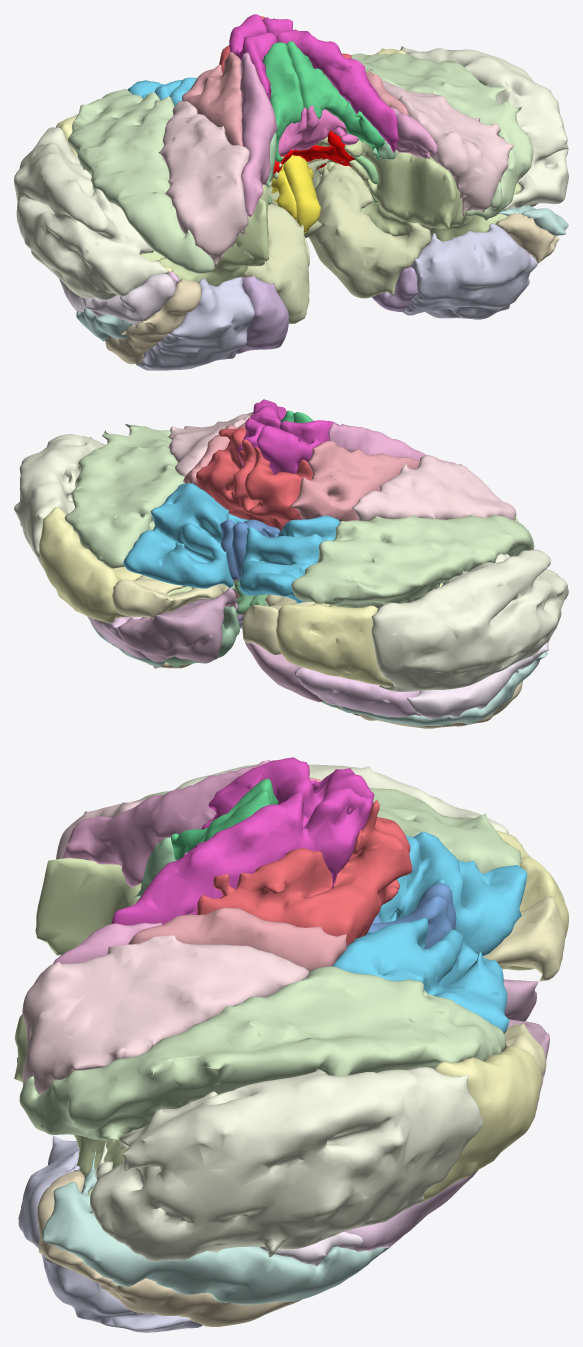
File: cerebellum.lod0.glb
3 views of the same model, one above another, from view 1: azimuth 30°, elevation 25°; view 2: azimuth 150°, elevation 25°; view 3: azimuth 270°, elevation 25° (orthographic). The views are drawn at different scales.
Parts seen in each view (by area): view 1: cerebellar-lobule-viia-crusi-l2-r, cerebellar-lobule-vi-l-r, cerebellar-lobule-v-l-r, cerebellar-lobule-viiib-l-l, cerebellar-lobule-ix-m-l, white-matter-of-hemisphere-of-cerebellum-l, cerebellar-lobule-viia-crusi-l2-l, cerebellar-lobule-vi-l-l, cerebellar-lobule-v-l-l, cerebellar-lobule-viiib-l-r, cerebellar-lobule-iv-v-l, cerebellar-lobule-ix-m-r (+21 smaller); view 2: cerebellar-lobule-viia-crusi-l2-r, cerebellar-lobule-vi-l-r, cerebellar-lobule-vi-l-l, cerebellar-lobule-vi-m-l, cerebellar-lobule-viia-crusi-l1-r, cerebellar-lobule-v-l-r, cerebellar-lobule-v-m-r, cerebellar-lobule-viia-crusi-l1-l, cerebellar-lobule-viia-crusii-m-l, cerebellar-lobule-vi-m-r, cerebellar-lobule-viia-crusi-l2-l, cerebellar-lobule-v-v-l (+17 smaller); view 3: cerebellar-lobule-viia-crusi-l2-l, cerebellar-lobule-vi-l-l, cerebellar-lobule-v-l-l, cerebellar-lobule-viib-l-l, cerebellar-lobule-iv-v-l, cerebellar-lobule-v-v-l, cerebellar-lobule-vi-m-l, cerebellar-lobule-vi-m-r, cerebellar-lobule-iv-m-r, cerebellar-lobule-viia-crusi-l1-l, white-matter-of-hemisphere-of-cerebellum-r, cerebellar-lobule-viiib-l-l (+18 smaller).
Part boxes in pixels (x1,y1,x2,y2): cerebellar-lobule-viia-crusi-l2-r: [14, 127, 169, 300]; cerebellar-lobule-vi-l-r: [68, 88, 214, 273]; cerebellar-lobule-v-l-r: [158, 100, 249, 265]; cerebellar-lobule-viiib-l-l: [402, 223, 538, 319]; cerebellar-lobule-ix-m-l: [304, 163, 431, 298]; white-matter-of-hemisphere-of-cerebellum-l: [307, 136, 521, 241]; cerebellar-lobule-viia-crusi-l2-l: [400, 46, 568, 209]; cerebellar-lobule-vi-l-l: [351, 53, 533, 220]; cerebellar-lobule-v-l-l: [382, 81, 513, 216]; cerebellar-lobule-viiib-l-r: [136, 277, 254, 370]; cerebellar-lobule-iv-v-l: [262, 17, 398, 152]; cerebellar-lobule-ix-m-r: [242, 203, 309, 323]; cerebellar-lobule-viia-crusi-l2-r: [371, 549, 568, 691]; cerebellar-lobule-vi-l-r: [291, 515, 534, 608]; cerebellar-lobule-vi-l-l: [64, 424, 184, 568]; cerebellar-lobule-vi-m-l: [123, 483, 247, 588]; cerebellar-lobule-viia-crusi-l1-r: [276, 583, 442, 686]; cerebellar-lobule-v-l-r: [352, 455, 516, 520]; cerebellar-lobule-v-m-r: [290, 440, 419, 521]; cerebellar-lobule-viia-crusi-l1-l: [39, 507, 142, 623]; cerebellar-lobule-viia-crusii-m-l: [117, 588, 238, 662]; cerebellar-lobule-vi-m-r: [239, 515, 339, 603]; cerebellar-lobule-viia-crusi-l2-l: [14, 434, 104, 569]; cerebellar-lobule-v-v-l: [196, 417, 283, 531]; cerebellar-lobule-viia-crusi-l2-l: [90, 1067, 482, 1261]; cerebellar-lobule-vi-l-l: [19, 966, 506, 1142]; cerebellar-lobule-v-l-l: [22, 935, 309, 1094]; cerebellar-lobule-viib-l-l: [42, 1149, 389, 1304]; cerebellar-lobule-iv-v-l: [111, 787, 372, 925]; cerebellar-lobule-v-v-l: [197, 800, 412, 945]; cerebellar-lobule-vi-m-l: [332, 918, 509, 1033]; cerebellar-lobule-vi-m-r: [379, 831, 527, 956]; cerebellar-lobule-iv-m-r: [62, 760, 270, 887]; cerebellar-lobule-viia-crusi-l1-l: [415, 1046, 542, 1204]; white-matter-of-hemisphere-of-cerebellum-r: [35, 857, 141, 955]; cerebellar-lobule-viiib-l-l: [18, 1136, 202, 1332].
Bounding box in the file's own units: 0.113 × 0.0625 × 0.0703.
